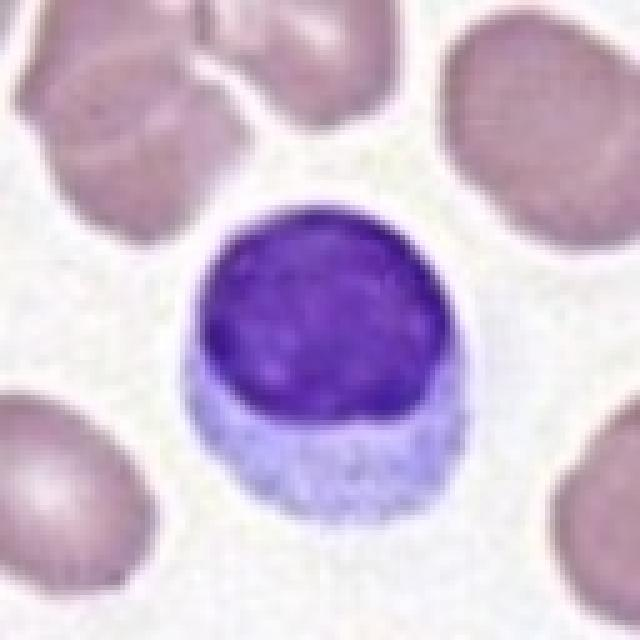lympho: (175, 199, 481, 533)
